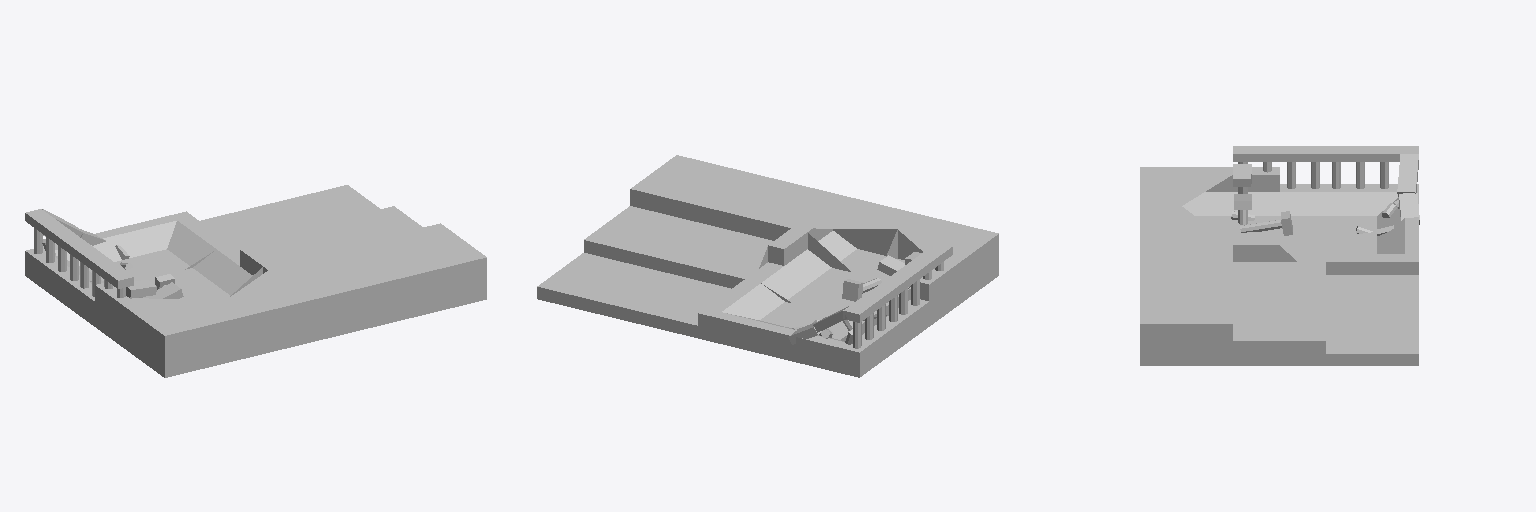
The model's file is nivel_ruina MODULOS.obj.
3 renders of one model, left to right at view 1: azimuth 30°, elevation 25°; view 2: azimuth 150°, elevation 25°; view 3: azimuth 270°, elevation 25°, orthographic.
Parts seen in each view (by area): view 1: Cube.003_Cube.017, Cube.009_Cube.022, Cube.010_Cube.023, Cube.004_Cube.018, base.001_Cube.009, Cube.002_Cube.013, Cube.011_Cube.025, base_Cube.011, Cube.007_Cube.020, Cube.008_Cube.024, Cube_Cube.012, Cube.006_Cube.019 (+2 smaller); view 2: Cube.004_Cube.018, base.001_Cube.009, Cube.003_Cube.017, Cube.010_Cube.023, Cube.009_Cube.022, Cube.002_Cube.013, Cube.011_Cube.025, Cube.007_Cube.020, base_Cube.011, Cube.006_Cube.019, Cube.008_Cube.024, Cube_Cube.012 (+2 smaller); view 3: Cube.010_Cube.023, Cube.007_Cube.020, Cube.011_Cube.025, Cube.003_Cube.017, base.001_Cube.009, Cube_Cube.012, Cube.006_Cube.019, Cube.009_Cube.022, Cube.008_Cube.024, base_Cube.011, Cube.004_Cube.018, Cube.002_Cube.013 (+3 smaller).
Part boxes in pixels (bbox=[...]): Cube.003_Cube.017: bbox=[118, 298, 244, 377]; Cube.009_Cube.022: bbox=[280, 243, 406, 338]; Cube.010_Cube.023: bbox=[361, 223, 486, 318]; Cube.004_Cube.018: bbox=[225, 263, 325, 358]; base.001_Cube.009: bbox=[106, 211, 232, 277]; Cube.002_Cube.013: bbox=[153, 246, 278, 300]; Cube.011_Cube.025: bbox=[267, 185, 379, 228]; base_Cube.011: bbox=[25, 231, 151, 309]; Cube.007_Cube.020: bbox=[315, 206, 422, 246]; Cube.008_Cube.024: bbox=[200, 204, 299, 244]; Cube_Cube.012: bbox=[72, 278, 181, 343]; Cube.006_Cube.019: bbox=[233, 226, 341, 262]; Cube.004_Cube.018: bbox=[792, 194, 917, 276]; base.001_Cube.009: bbox=[698, 279, 824, 357]; Cube.003_Cube.017: bbox=[872, 214, 998, 308]; Cube.010_Cube.023: bbox=[630, 155, 756, 224]; Cube.009_Cube.022: bbox=[711, 175, 837, 240]; Cube.002_Cube.013: bbox=[746, 228, 871, 311]; Cube.011_Cube.025: bbox=[537, 253, 663, 318]; Cube.007_Cube.020: bbox=[584, 206, 710, 271]; base_Cube.011: bbox=[779, 312, 905, 377]; Cube.006_Cube.019: bbox=[664, 226, 772, 288]; Cube.008_Cube.024: bbox=[618, 272, 730, 337]; Cube_Cube.012: bbox=[826, 266, 952, 343]; Cube.010_Cube.023: bbox=[1140, 285, 1232, 365]; Cube.007_Cube.020: bbox=[1233, 302, 1325, 365]; Cube.011_Cube.025: bbox=[1326, 314, 1418, 365]; Cube.003_Cube.017: bbox=[1140, 167, 1232, 235]; base.001_Cube.009: bbox=[1326, 223, 1418, 274]; Cube_Cube.012: bbox=[1233, 167, 1325, 235]; Cube.006_Cube.019: bbox=[1233, 262, 1325, 301]; Cube.009_Cube.022: bbox=[1140, 245, 1232, 284]; Cube.008_Cube.024: bbox=[1326, 275, 1418, 313]; base_Cube.011: bbox=[1326, 184, 1418, 235]; Cube.004_Cube.018: bbox=[1140, 206, 1232, 244]; Cube.002_Cube.013: bbox=[1233, 236, 1325, 261].
Bounding box in the file's own units: 8 × 1.5 × 6.02.